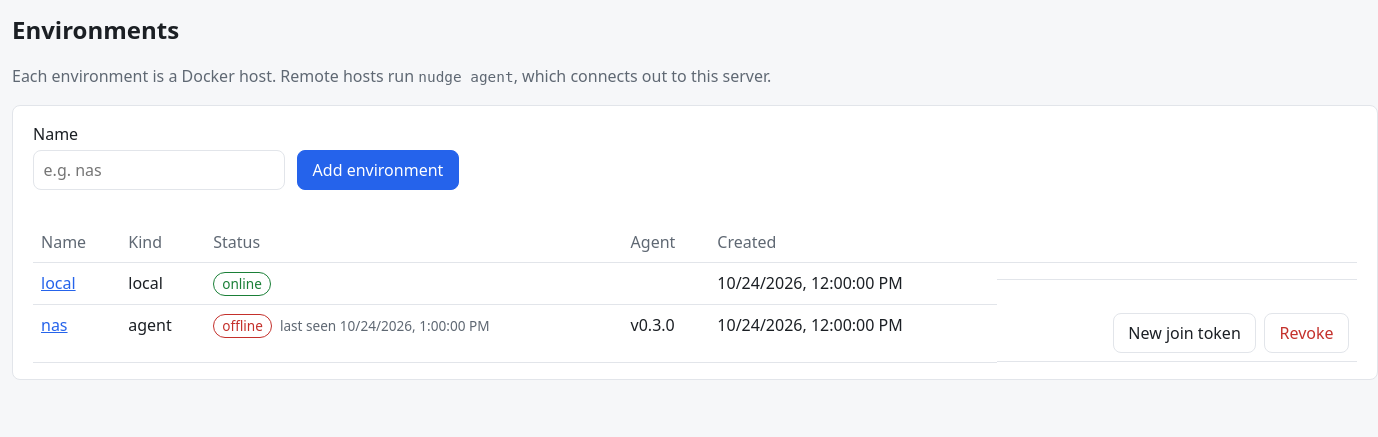
it: EnvironmentsView › keeps an action error when the reload fails too
The width and height of the screenshot is (1378, 437).
Step 1. Click the button "Revoke" → (1307, 333), box [1264, 313, 1349, 353]
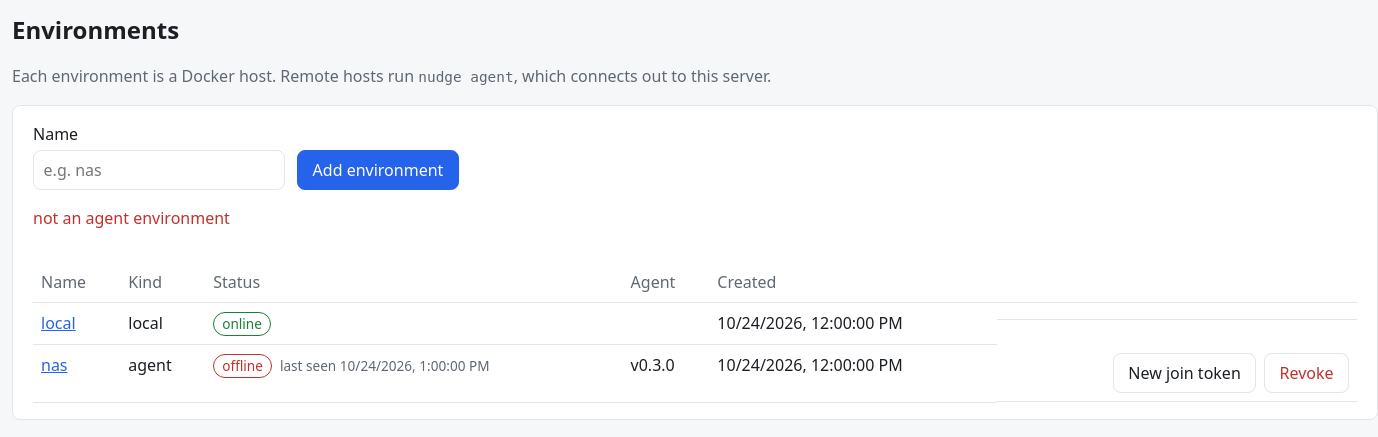
Expected: the button "Revoke" is enabled, [1264, 353, 1349, 393]
Expected: the message "not an agent environment" is shown, [33, 207, 230, 229]
